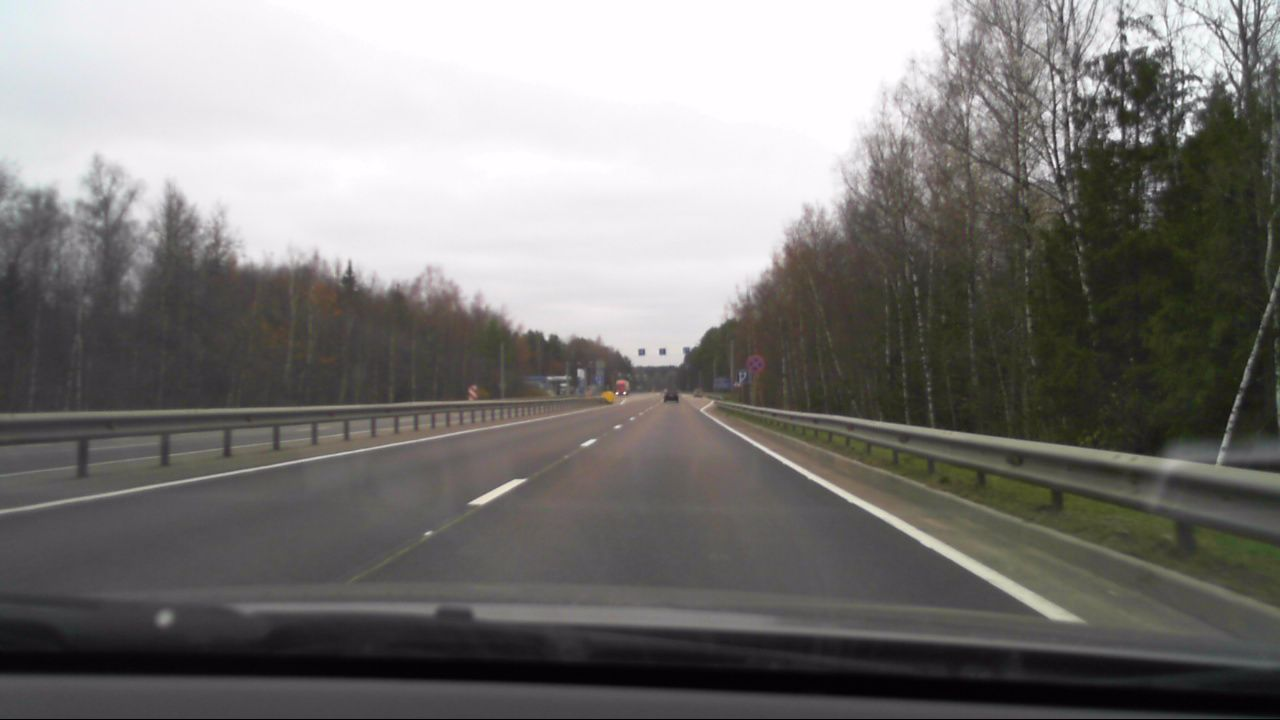No Parking: (746, 353, 765, 371)
